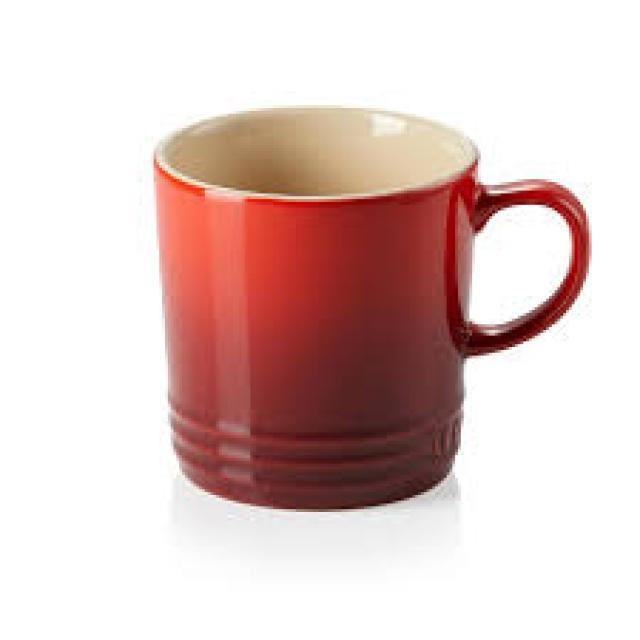taza: (153, 104, 592, 511)
